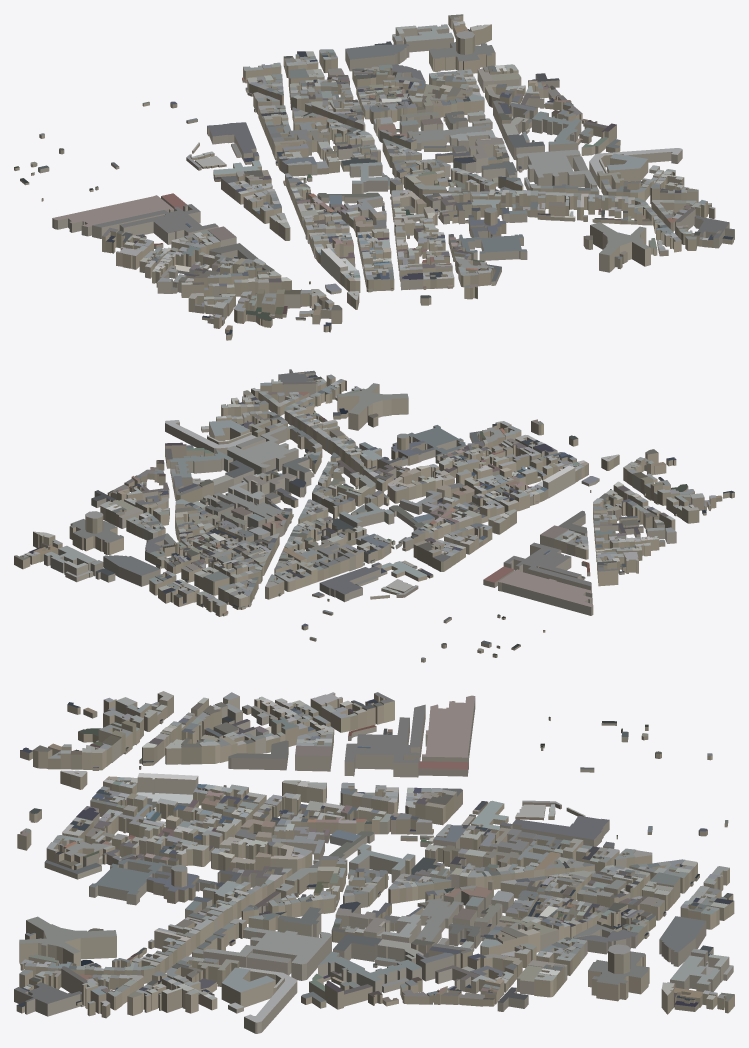
3 renders of one model, top to bottom at view 1: azimuth 30°, elevation 25°; view 2: azimuth 150°, elevation 25°; view 3: azimuth 270°, elevation 25°, orthographic. The views are drawn at different scales.
Visible parts, largest first — view 1: tuile; view 2: tuile; view 3: tuile.
Part boxes in pixels (x1=…): tuile: x1=14, y1=14, x2=734, y2=340; tuile: x1=14, y1=369, x2=734, y2=662; tuile: x1=14, y1=691, x2=734, y2=1033.
Size of the model in its own units: 1101 by 77.97 by 1021.
